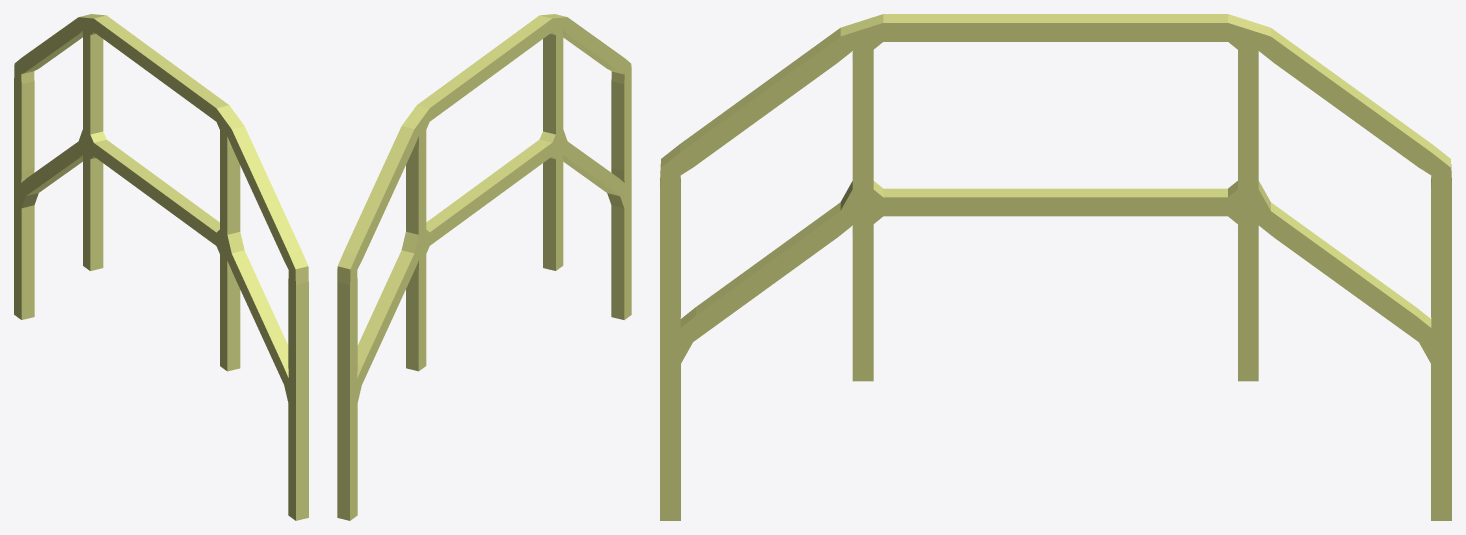
File: corrimao_subprefeitura.glb
3 renders of one model, left to right at view 1: azimuth 30°, elevation 25°; view 2: azimuth 150°, elevation 25°; view 3: azimuth 270°, elevation 25°, orthographic. The views are drawn at different scales.
Parts seen in each view (by area): view 1: Corrimão - Subprefeitura; view 2: Corrimão - Subprefeitura; view 3: Corrimão - Subprefeitura.
Boxes of the visible parts, x1,y1,x2,y2 form: Corrimão - Subprefeitura: (14,14,308,520); Corrimão - Subprefeitura: (337,14,631,520); Corrimão - Subprefeitura: (660,14,1451,520).
Size of the model in its own units: 0.0544 by 1.43 by 2.06.
